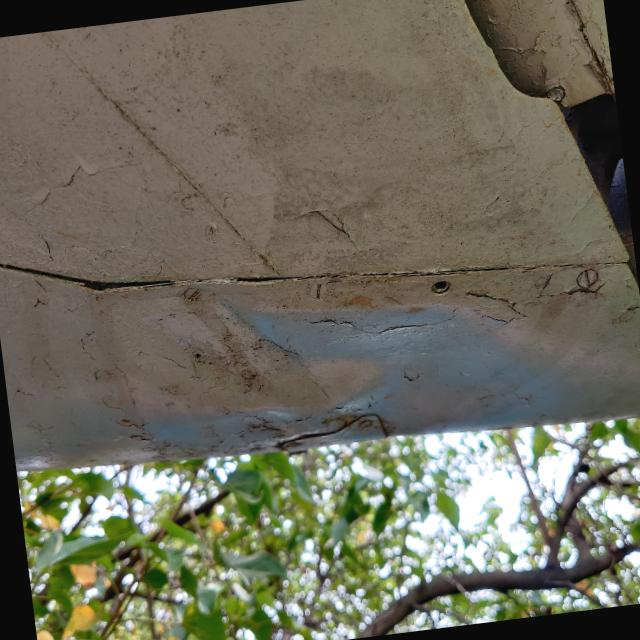dent: (119, 254, 402, 483)
